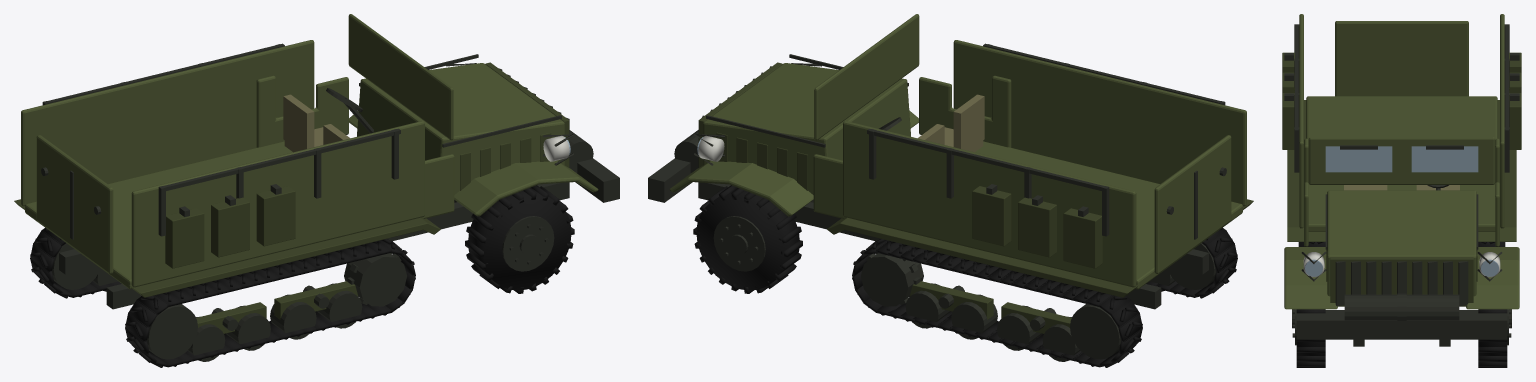
The model's file is sound_halftrack.glb.
The picture shows the model from 3 angles, left to right: view 1: azimuth 30°, elevation 25°; view 2: azimuth 150°, elevation 25°; view 3: azimuth 270°, elevation 25°; orthographic projection. The views are drawn at different scales.
Visible parts, largest first — view 1: sound_halftrack_paint, sound_halftrack_steel_dark, sound_halftrack_rubber, sound_halftrack_paint_dark, sound_halftrack_canvas, sound_halftrack_chrome; view 2: sound_halftrack_paint, sound_halftrack_steel_dark, sound_halftrack_rubber, sound_halftrack_paint_dark, sound_halftrack_canvas, sound_halftrack_chrome; view 3: sound_halftrack_paint, sound_halftrack_steel_dark, sound_halftrack_paint_dark, sound_halftrack_glass, sound_halftrack_rubber, sound_halftrack_canvas, sound_halftrack_chrome.
Boxes of the visible parts, x1,y1,x2,y2 form: sound_halftrack_paint: (21,14,598,289); sound_halftrack_steel_dark: (41,43,619,361); sound_halftrack_rubber: (30,185,574,367); sound_halftrack_paint_dark: (14,62,569,333); sound_halftrack_canvas: (283,94,349,152); sound_halftrack_chrome: (459,64,569,161); sound_halftrack_paint: (669,14,1246,289); sound_halftrack_steel_dark: (648,43,1226,361); sound_halftrack_rubber: (693,185,1237,367); sound_halftrack_paint_dark: (698,62,1253,333); sound_halftrack_canvas: (918,94,984,152); sound_halftrack_chrome: (698,64,808,161); sound_halftrack_paint: (1284,14,1519,309); sound_halftrack_steel_dark: (1284,24,1519,346); sound_halftrack_paint_dark: (1282,52,1521,306); sound_halftrack_glass: (1305,146,1498,276); sound_halftrack_rubber: (1296,242,1507,367); sound_halftrack_canvas: (1344,185,1459,190); sound_halftrack_chrome: (1303,252,1500,277).
Bounding box in the file's own units: 5.4 × 2.26 × 2.5.
